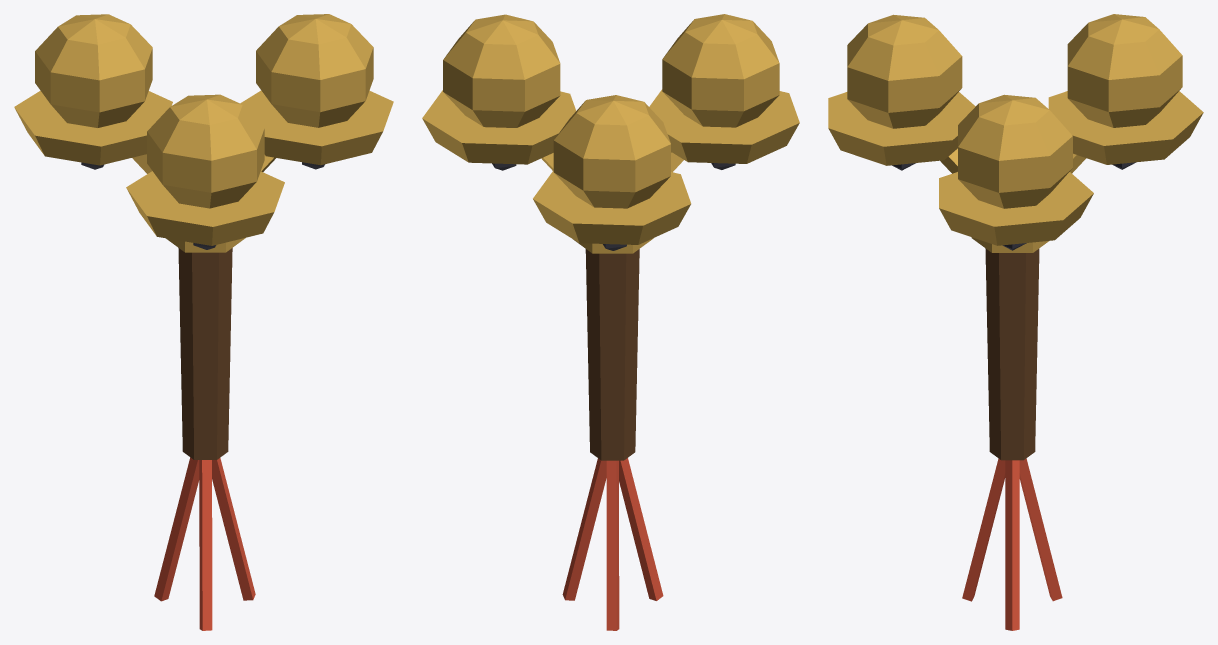
Rendered from weapon_yoryeong.glb.
The picture shows the model from 3 angles, left to right: view 1: azimuth 30°, elevation 25°; view 2: azimuth 150°, elevation 25°; view 3: azimuth 270°, elevation 25°; orthographic projection.
Visible parts, largest first — view 1: weapon_yoryeong; view 2: weapon_yoryeong; view 3: weapon_yoryeong.
Part boxes in pixels (x1,y1,x2,y2): weapon_yoryeong: [14, 14, 393, 630]; weapon_yoryeong: [422, 14, 799, 630]; weapon_yoryeong: [828, 14, 1203, 630].
Size of the model in its own units: 0.3862 by 0.685 by 0.414.
